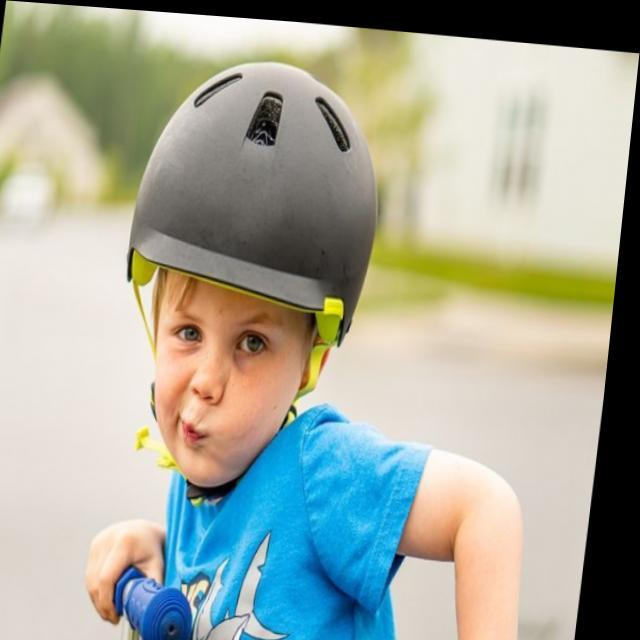Helmet: (119, 57, 383, 489)
